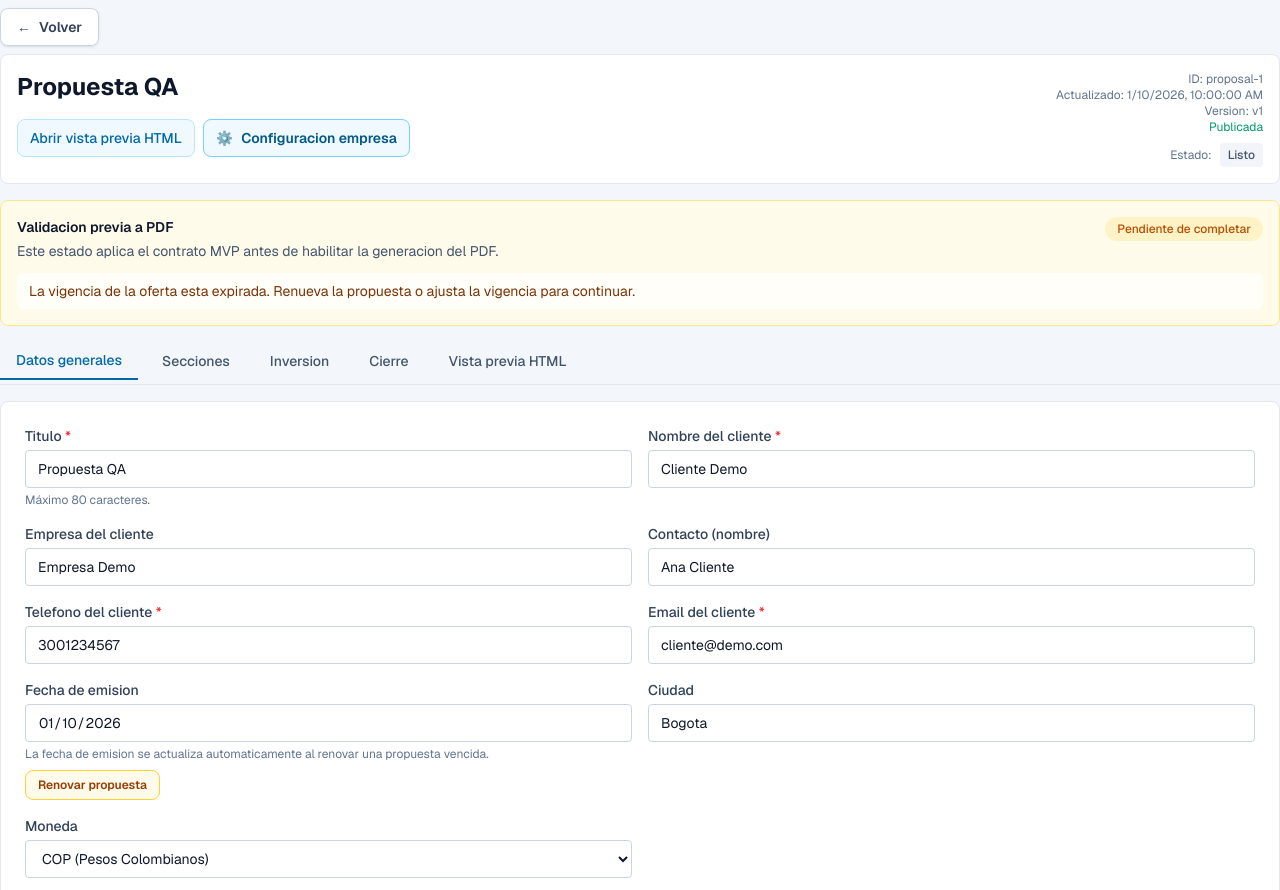
Test: ProposalEditor › shows Abrir vista previa HTML shortcut button
This screenshot has width=1280, height=890.
expect the heading "Propuesta QA" is shown: met, box x1=17 y1=71 x2=178 y2=102
Click the button "Abrir vista previa HTML". click: (106,138)
box: x1=17 y1=119 x2=195 y2=157
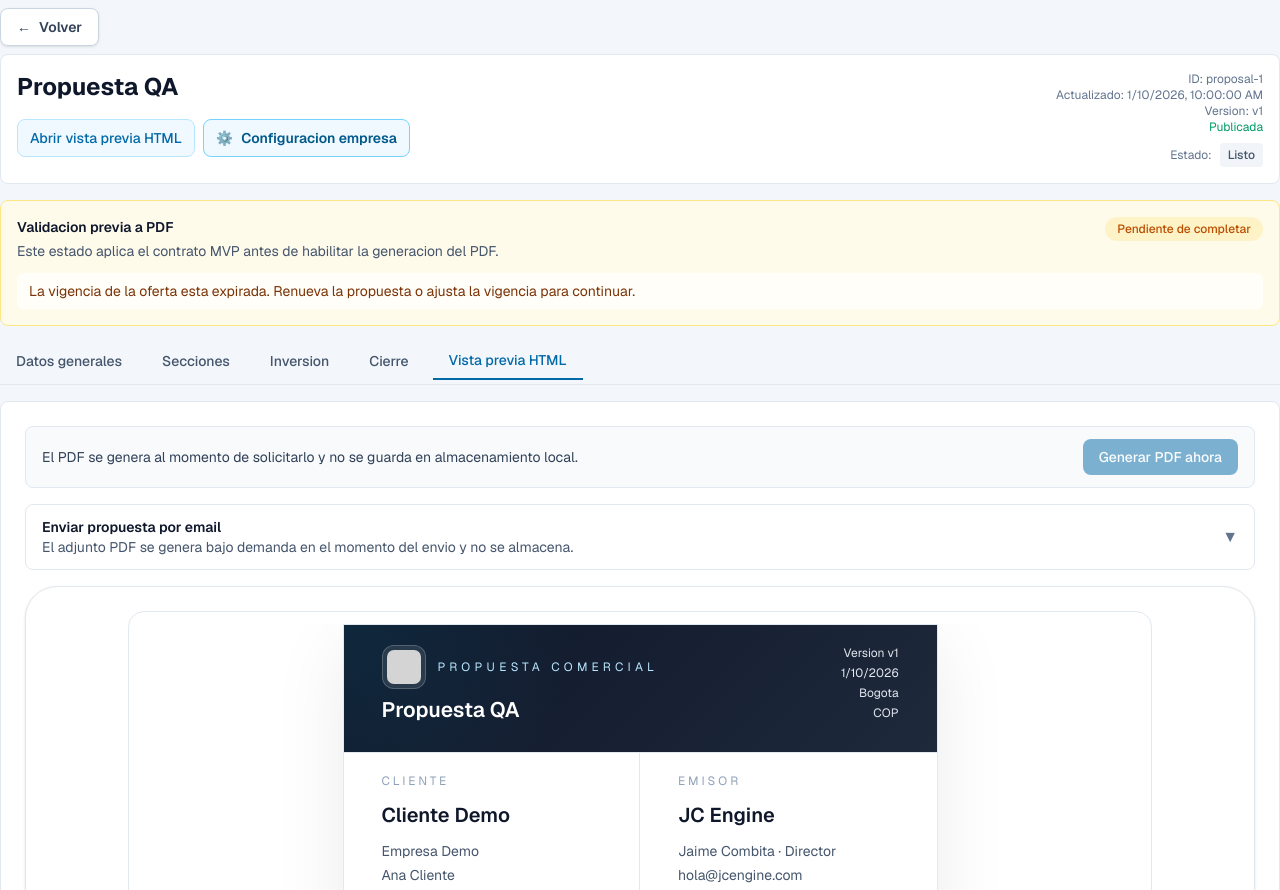
expect the button "Generar PDF ahora" is shown: met, box x1=1083 y1=439 x2=1238 y2=475
